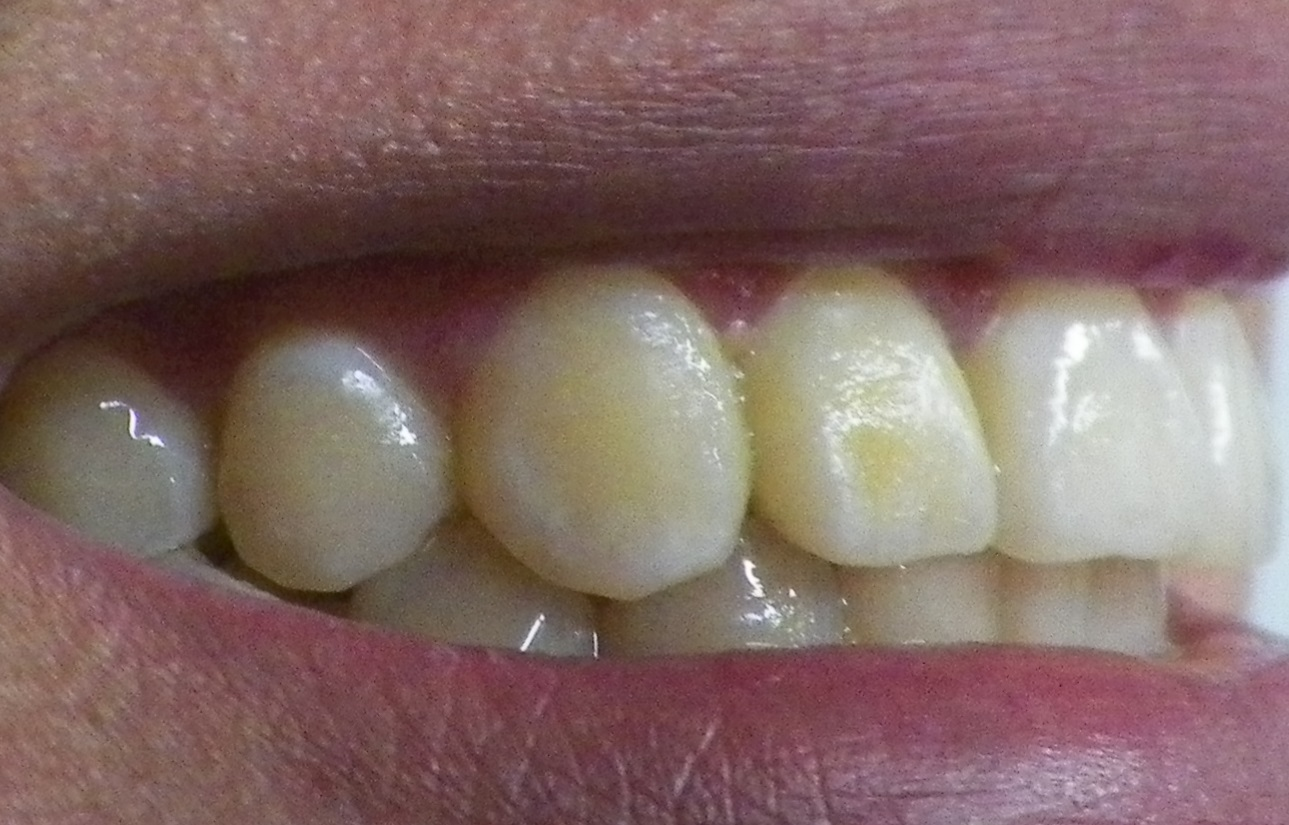boca: (10, 265, 1279, 638)
